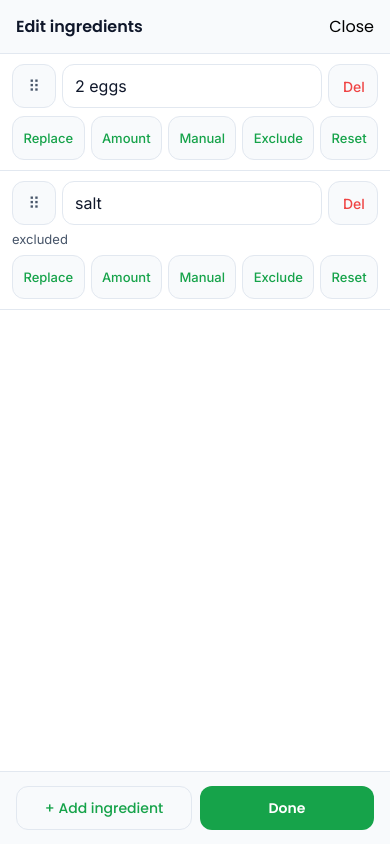
IngredientsEditor › Apply amount is disabled until quantity and unit are both set
Click the 1st button "Amount" at (126, 138), box [90, 116, 162, 160]
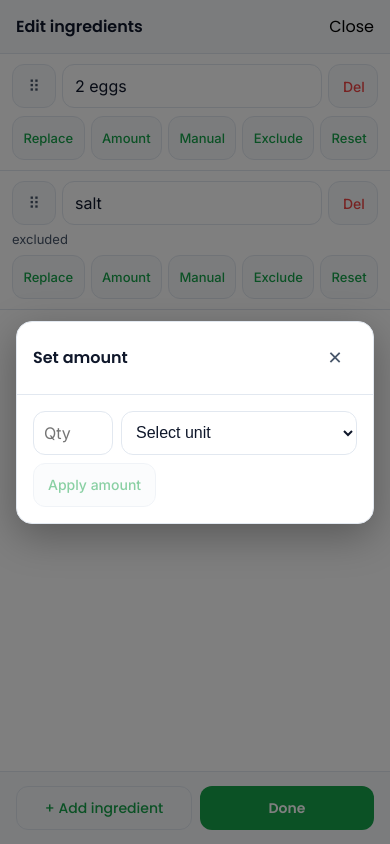
expect the button "Apply amount" is disabled: met, box [33, 462, 156, 506]
Type "2" into the field named "quantity" at (73, 432), box [33, 410, 113, 454]
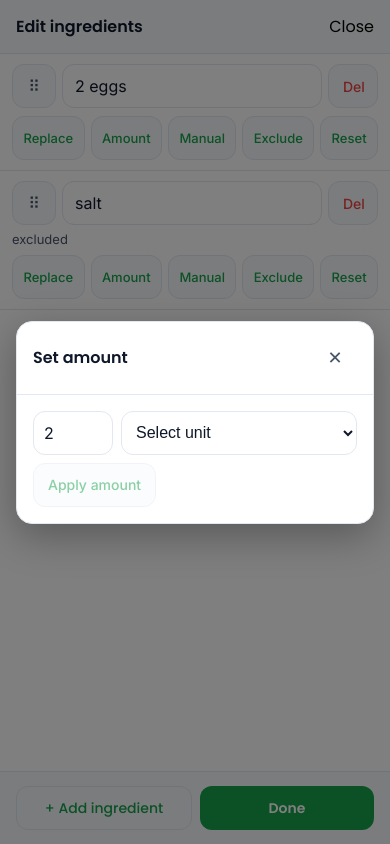
expect the button "Apply amount" is disabled: met, box [33, 462, 156, 506]
Select "Grams (g)" in the dropdown named "unit" at (239, 432), box [121, 410, 357, 454]
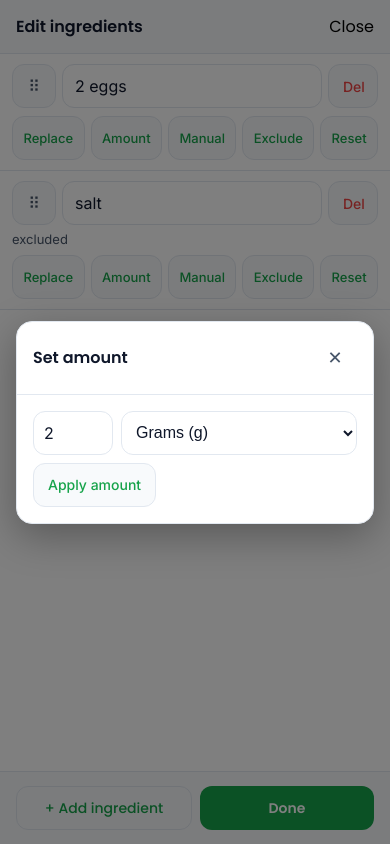
expect the button "Apply amount" is enabled: met, box [33, 462, 156, 506]
